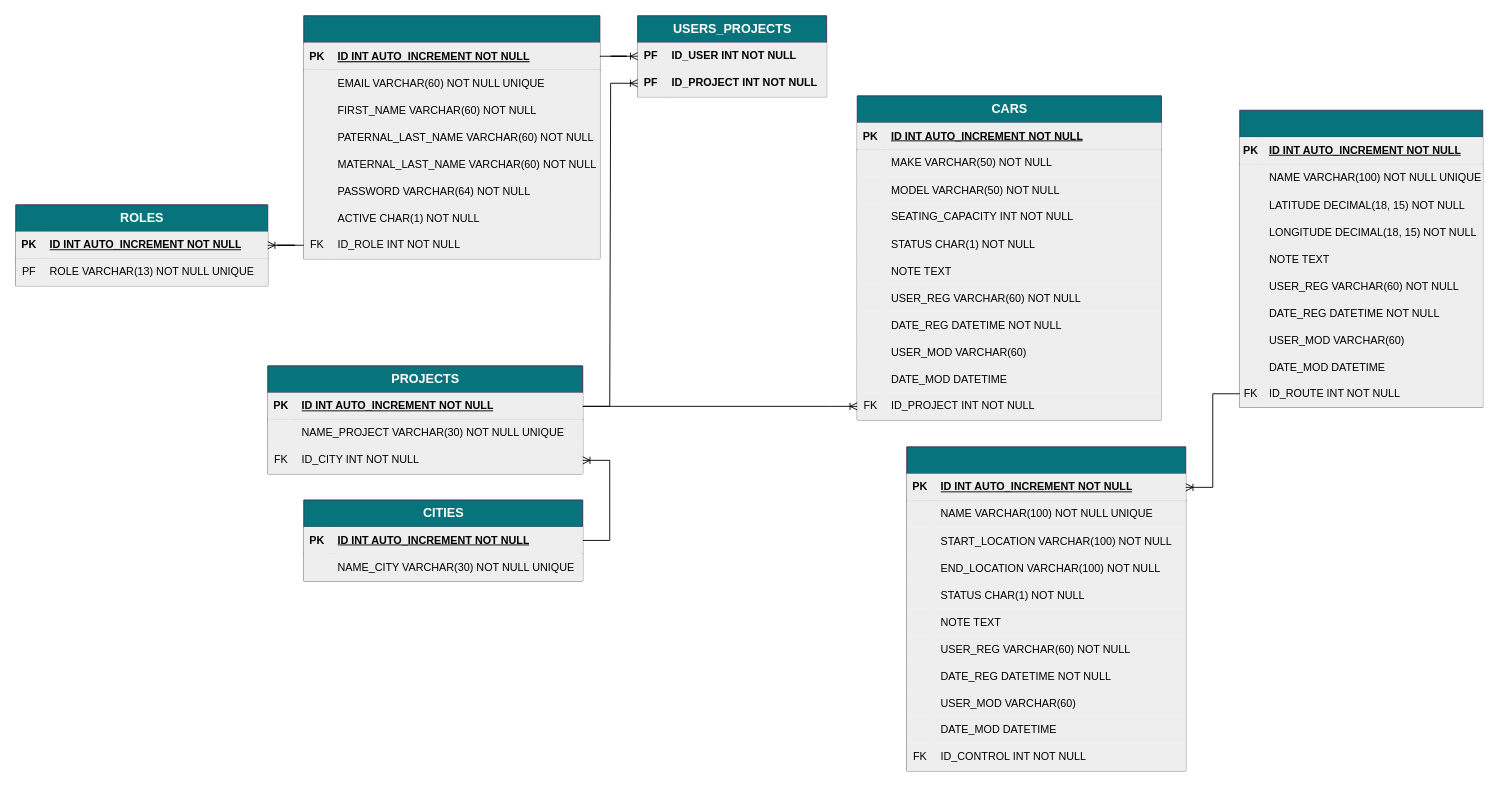
Image size: 1499x787. Some labels were removed from this diagram. Here are the shapes that lost their labels. From the top down, the box of each, then its label:
(303, 15, 600, 259): USERS
(1239, 109, 1483, 407): STOPS
(906, 446, 1186, 771): ROUTES
